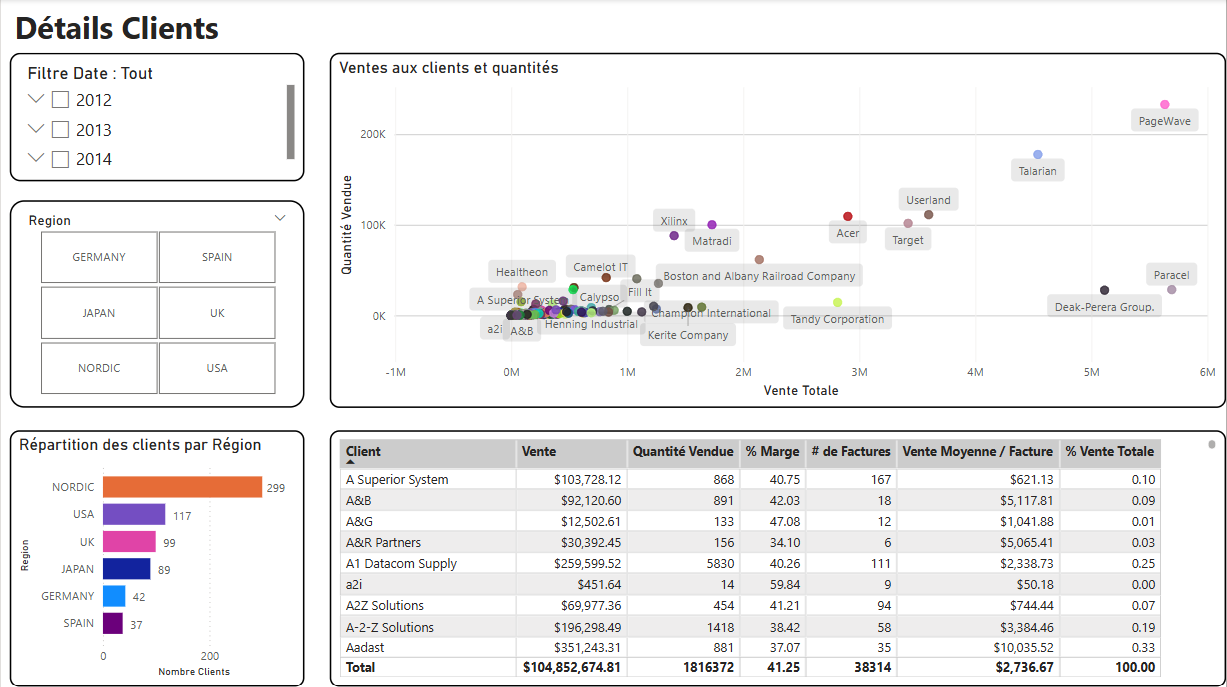

The dashboard page shown, as its layout file describes it:
{"tool":"powerbi","page":{"name":"Détails Clients","canvas":[1280,720],"ordinal":2},"visuals":[{"type":"slicer","fields":{"Values":["SalesOrder.Year Hiérarchie Custom.Year","SalesOrder.Year Hiérarchie Custom.Quarter","SalesOrder.Year Hiérarchie Custom.Month","SalesOrder.Year Hiérarchie Custom.Week"]},"box":[9.1,56.2,308.3,134.6],"z":0},{"type":"slicer","fields":{"Values":["Regions.Region"]},"box":[9.1,210.3,308.3,216.9],"z":1000},{"type":"textbox","box":[9.1,2.6,350.1,53.6],"z":2000},{"type":"scatterChart","title":"Ventes aux clients et quantités","fields":{"Category":["Customers.Customer"],"X":["SalesOrder.Vente Totale"],"Y":["SalesOrder.Quantité Vendue"],"Series":["Customers.Customer"]},"box":[343.6,56.2,936.7,371],"z":3000},{"type":"tableEx","fields":{"Values":["Customers.Customer","SalesOrder.Vente Totale","SalesOrder.Quantité Vendue","SalesOrder.Margin (%)","SalesOrder.Nombre de Factures","SalesOrder.Vente Moyenne par Facture","SalesOrder.% Vente Totale"]},"box":[343.6,450.7,936.7,269.1],"z":4000},{"type":"barChart","title":"Répartition des clients par Région","fields":{"Category":["Regions.Region"],"Y":["Customers.Nombre Clients"],"Series":["Regions.Region"]},"box":[9.1,450.7,308.3,269.1],"z":5000}]}

Visuals, with their boxes in screenshot pixels (x1, y1, x2, y2), scaled from the page's 1280x720 canvas onto the 1227x687 screenshot:
slicer - SalesOrder.Year Hiérarchie Custom.Year x SalesOrder.Year Hiérarchie Custom.Quarter: bbox(9, 54, 304, 182)
slicer - Regions.Region: bbox(9, 201, 304, 408)
textbox: bbox(9, 2, 344, 54)
"Ventes aux clients et quantités" scatterChart: bbox(329, 54, 1226, 408)
tableEx - Customers.Customer x SalesOrder.Vente Totale: bbox(329, 430, 1226, 686)
"Répartition des clients par Région" barChart: bbox(9, 430, 304, 686)
